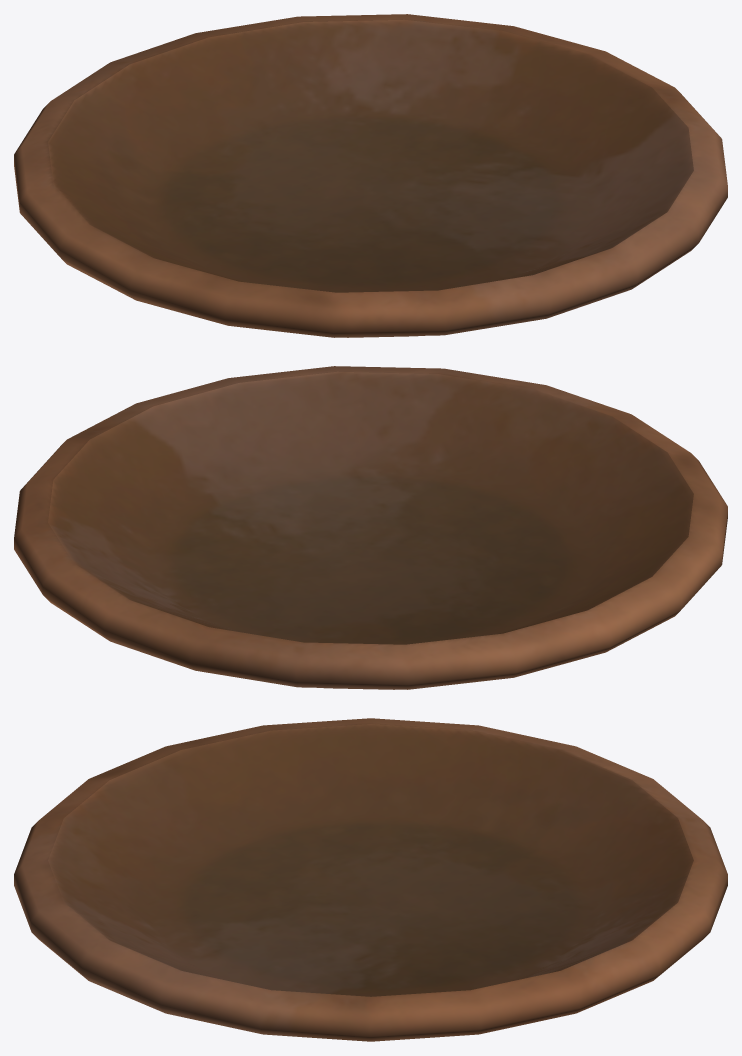
File: SM_Pot_07.fbx
3 renders of one model, top to bottom at view 1: azimuth 30°, elevation 25°; view 2: azimuth 150°, elevation 25°; view 3: azimuth 270°, elevation 25°, orthographic.
Parts seen in each view (by area): view 1: SM_Pot_07_LOD0; view 2: SM_Pot_07_LOD0; view 3: SM_Pot_07_LOD0.
Boxes of the visible parts, x1,y1,x2,y2 form: SM_Pot_07_LOD0: [14, 14, 727, 337]; SM_Pot_07_LOD0: [14, 366, 727, 689]; SM_Pot_07_LOD0: [14, 718, 727, 1041].
Size of the model in its own units: 24.92 by 24.92 by 3.35.
1 material, 1 textured.
